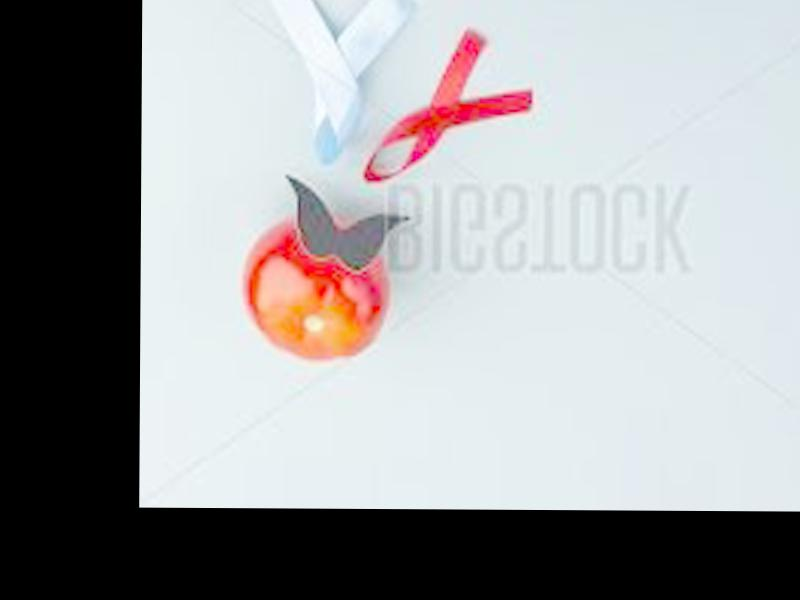Tomato: (242, 215, 391, 362)
